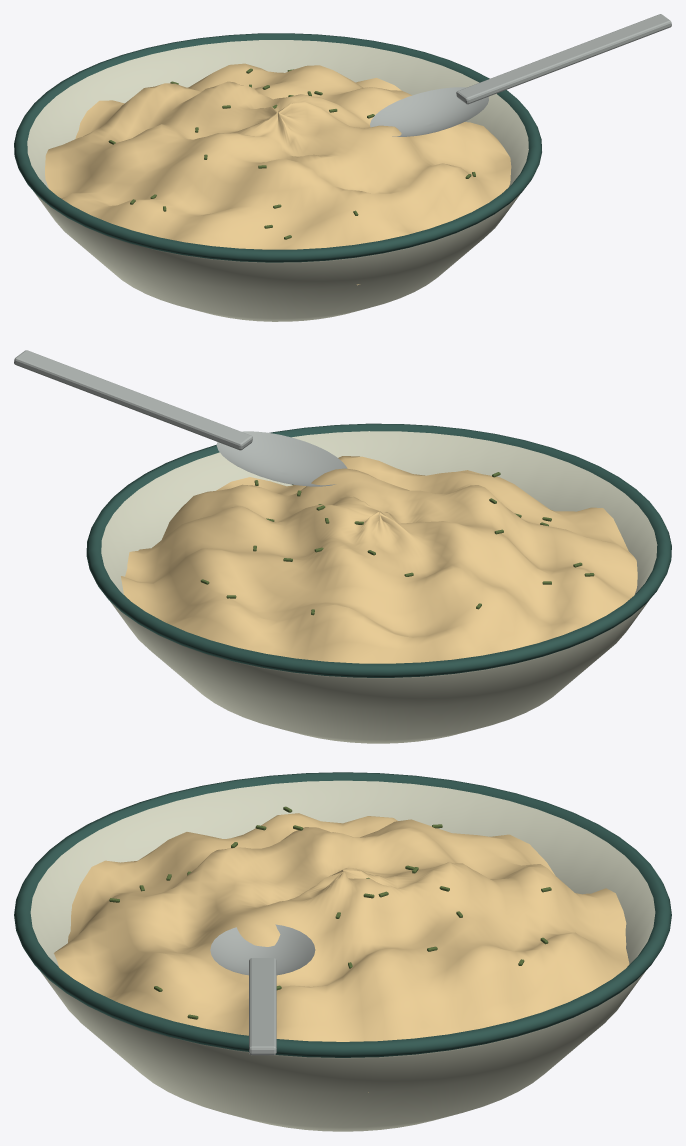
File: WD-01_potato_bowl.glb
3 renders of one model, top to bottom at view 1: azimuth 30°, elevation 25°; view 2: azimuth 150°, elevation 25°; view 3: azimuth 270°, elevation 25°, orthographic. The views are drawn at different scales.
Visible parts, largest first — view 1: Drawn mess bowl; view 2: Drawn mess bowl; view 3: Drawn mess bowl.
Boxes of the visible parts, x1,y1,x2,y2 form: Drawn mess bowl: [14, 14, 671, 321]; Drawn mess bowl: [14, 350, 671, 743]; Drawn mess bowl: [14, 772, 671, 1131].
Size of the model in its own units: 0.3046 by 0.0946 by 0.238.
